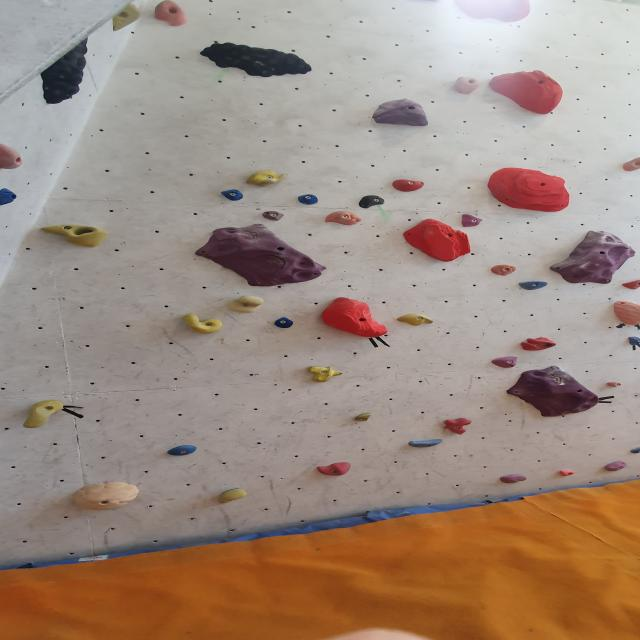Crimp: (305, 363, 346, 384), (595, 457, 636, 475), (513, 280, 561, 293), (395, 312, 438, 326), (291, 191, 326, 208), (252, 209, 292, 223), (166, 444, 205, 458), (389, 178, 425, 192), (406, 436, 447, 448), (218, 186, 248, 202), (488, 262, 518, 277), (498, 473, 530, 486), (351, 412, 385, 424), (459, 213, 484, 229), (492, 356, 522, 367), (276, 318, 300, 330), (555, 467, 576, 480)
Jug: (193, 42, 321, 81), (35, 34, 92, 106), (178, 310, 238, 336), (18, 400, 66, 431), (154, 0, 192, 28), (228, 296, 266, 314)
Pinch: (1, 140, 26, 174), (247, 169, 285, 187), (456, 74, 481, 98)
Pocket: (44, 222, 112, 246), (520, 335, 560, 351)
Sloper: (201, 224, 331, 286), (502, 363, 608, 416), (547, 232, 637, 288), (486, 169, 576, 216), (485, 70, 567, 117), (400, 219, 476, 265), (318, 297, 392, 339), (69, 478, 146, 514), (450, 0, 535, 24), (367, 98, 432, 129), (610, 300, 640, 330), (322, 210, 364, 226)
